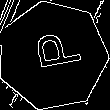P_W: (24, 33, 81, 78)
